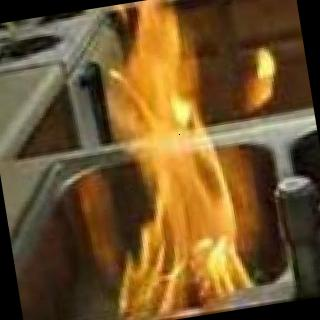fire: (84, 0, 259, 320), (240, 45, 284, 119)
